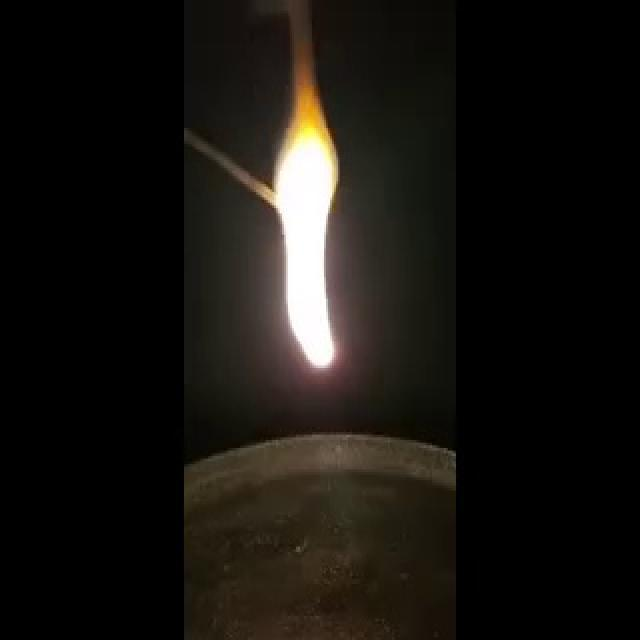fire: (265, 66, 343, 376)
